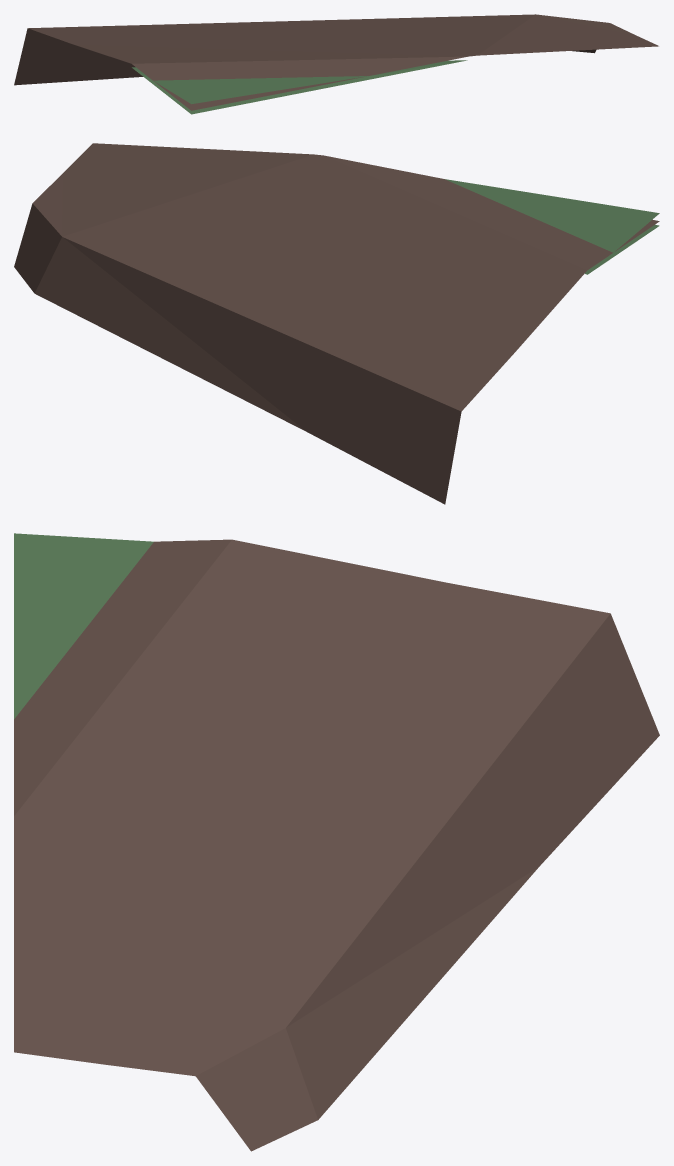
Rendered from cell_262.obj.
The picture shows the model from 3 angles, top to bottom: view 1: azimuth 30°, elevation 25°; view 2: azimuth 150°, elevation 25°; view 3: azimuth 270°, elevation 25°; orthographic projection. The views are drawn at different scales.
Size of the model in its own units: 1 by 0.2263 by 0.6559.
